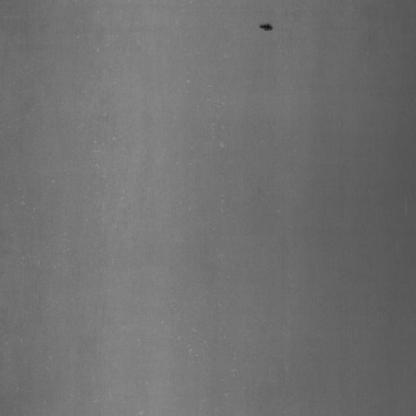inclusion: (258, 14, 280, 44)
